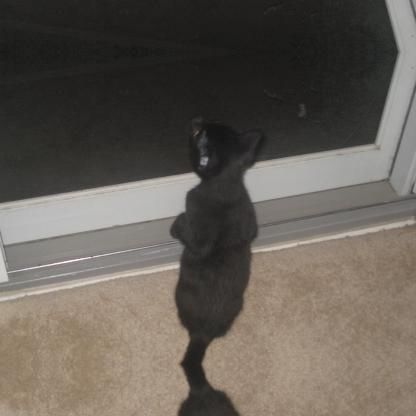Cat: (169, 115, 264, 362), (168, 365, 264, 415)
